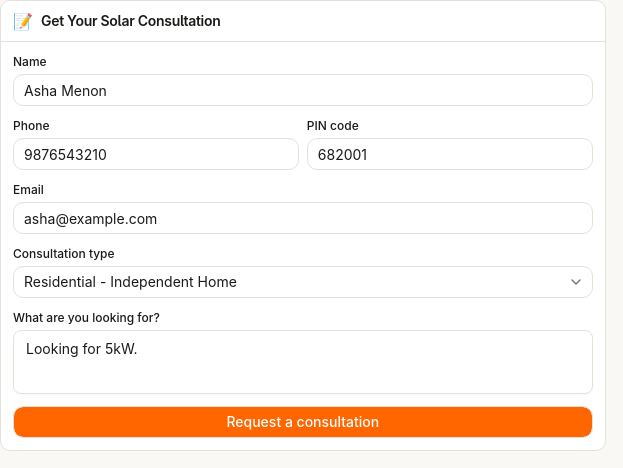
Test: LeadFormCard › confirms with the reference id the server actually returned
This screenshot has width=623, height=468.
Click the button "Request a consultation": (303, 422) [13, 406, 593, 438]
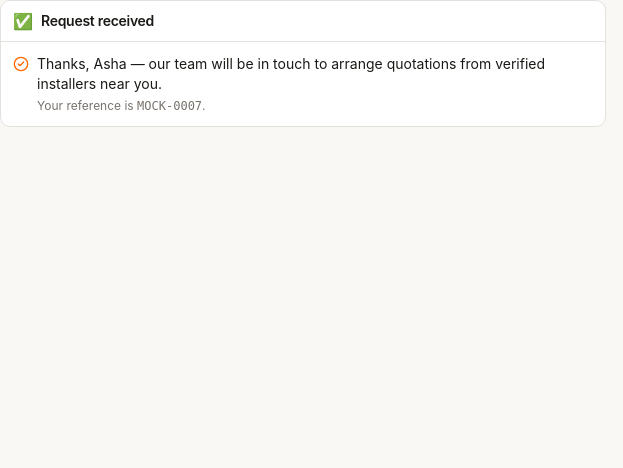
Result: the text "MOCK-0007" is shown at [137, 99, 202, 113]
Result: the heading "Request received" is shown at [41, 12, 154, 29]
